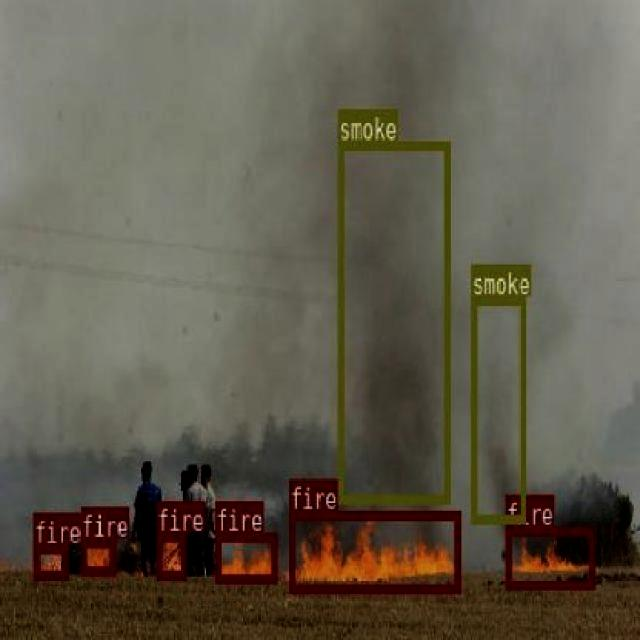fire: (290, 510, 458, 592), (504, 525, 594, 587), (213, 532, 276, 582), (154, 532, 186, 577), (80, 538, 114, 574), (33, 543, 67, 577)
smoke: (337, 141, 448, 502), (470, 294, 524, 520)
